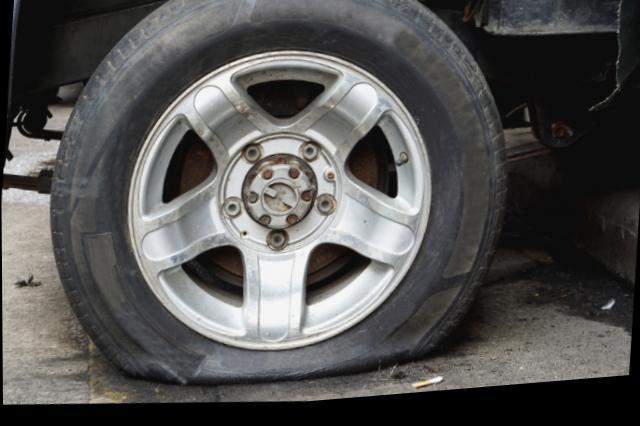tire flat: (49, 0, 512, 391)
